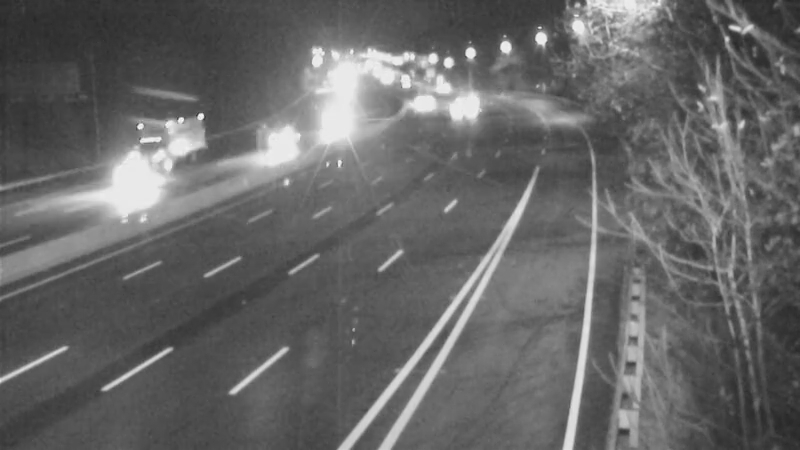vehicle: (114, 115, 194, 195), (89, 151, 169, 231), (418, 61, 468, 111), (402, 77, 452, 127), (438, 81, 488, 131), (260, 112, 310, 162), (312, 95, 362, 145)
